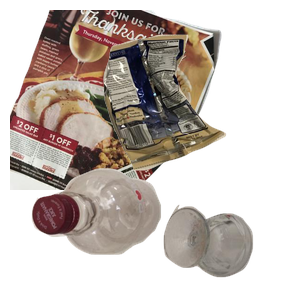glass: (161, 202, 300, 300)
paper: (10, 10, 224, 190)
plastic: (29, 166, 183, 300)
trash: (101, 32, 300, 195)
